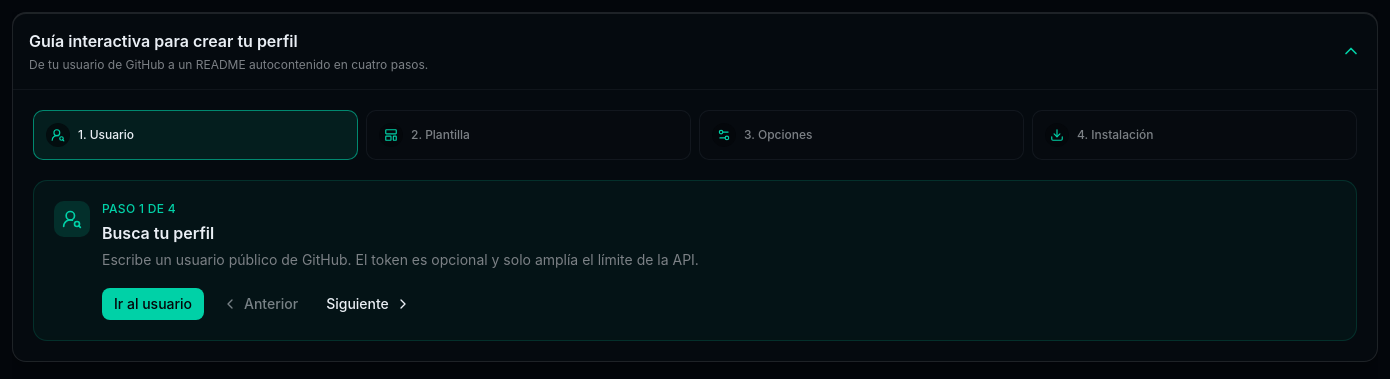
Test: ProfileGuide › permite recorrer y contraer los pasos de uso
Check: the heading "Busca tu perfil" is shown, box [102,223,214,243]
Click the button "2. Plantilla".
click(447, 134)  # box [366,110,691,160]
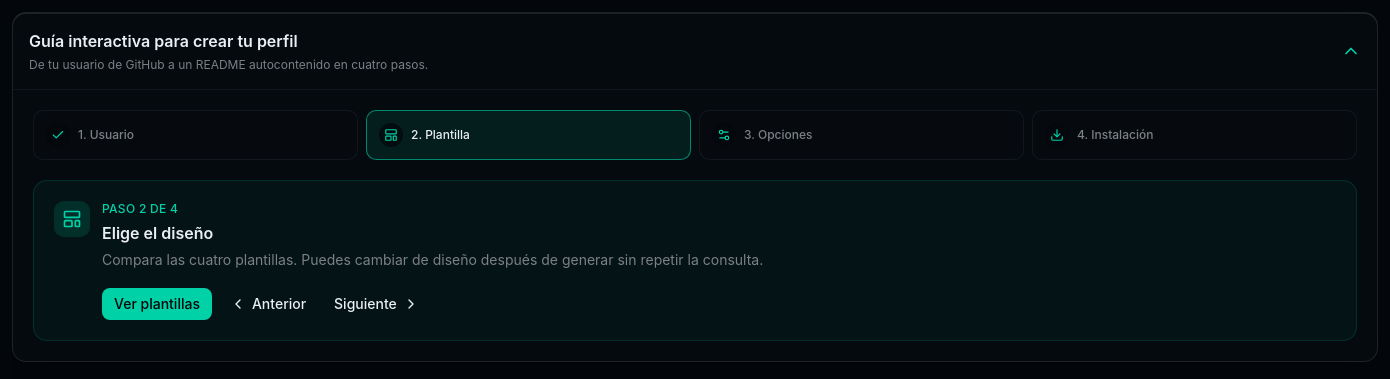
Check: the heading "Elige el diseño" is shown, box [102,223,213,243]
Click the button "Guía interactiva para crear tu perfil".
click(163, 41)  # box [13,13,1377,89]
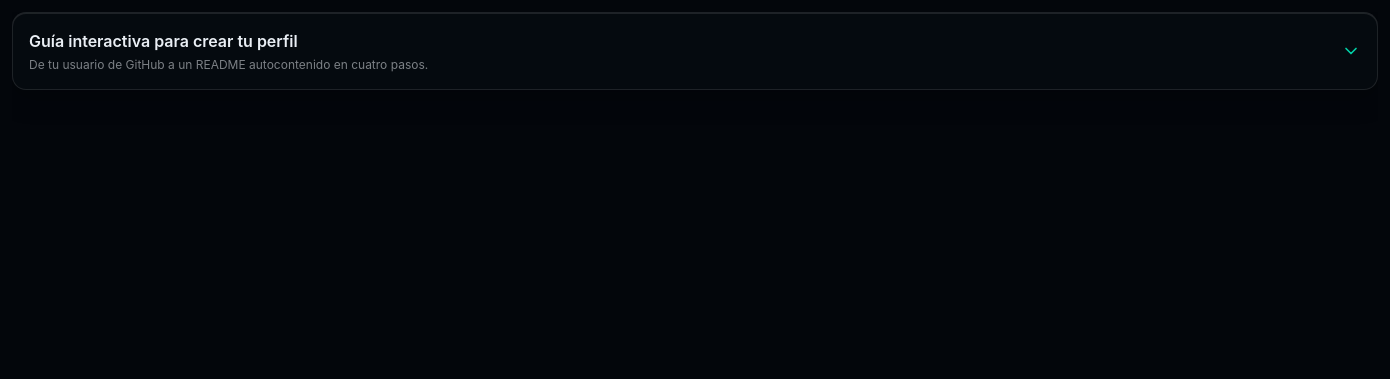
Check: the heading "Elige el diseño" is gone
